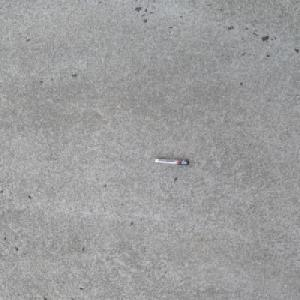Battery: (153, 158, 190, 165)
